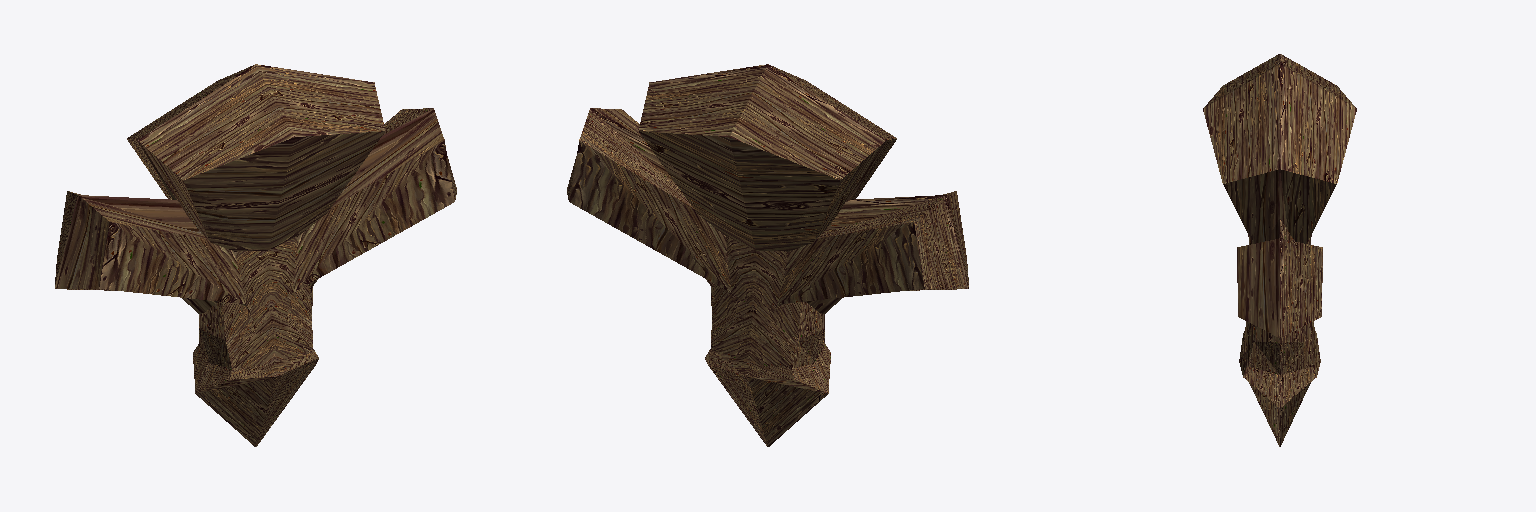
3 renders of one model, left to right at view 1: azimuth 30°, elevation 25°; view 2: azimuth 150°, elevation 25°; view 3: azimuth 270°, elevation 25°, orthographic.
Visible parts, largest first — view 1: Mesh; view 2: Mesh; view 3: Mesh.
Part boxes in pixels (left/top/right/bottom): Mesh: left=55, top=64, right=456, bottom=446; Mesh: left=567, top=64, right=968, bottom=446; Mesh: left=1203, top=54, right=1356, bottom=446.
Bounding box in the file's own units: 4.41 × 4.01 × 1.46.
1 materials, 1 textured.